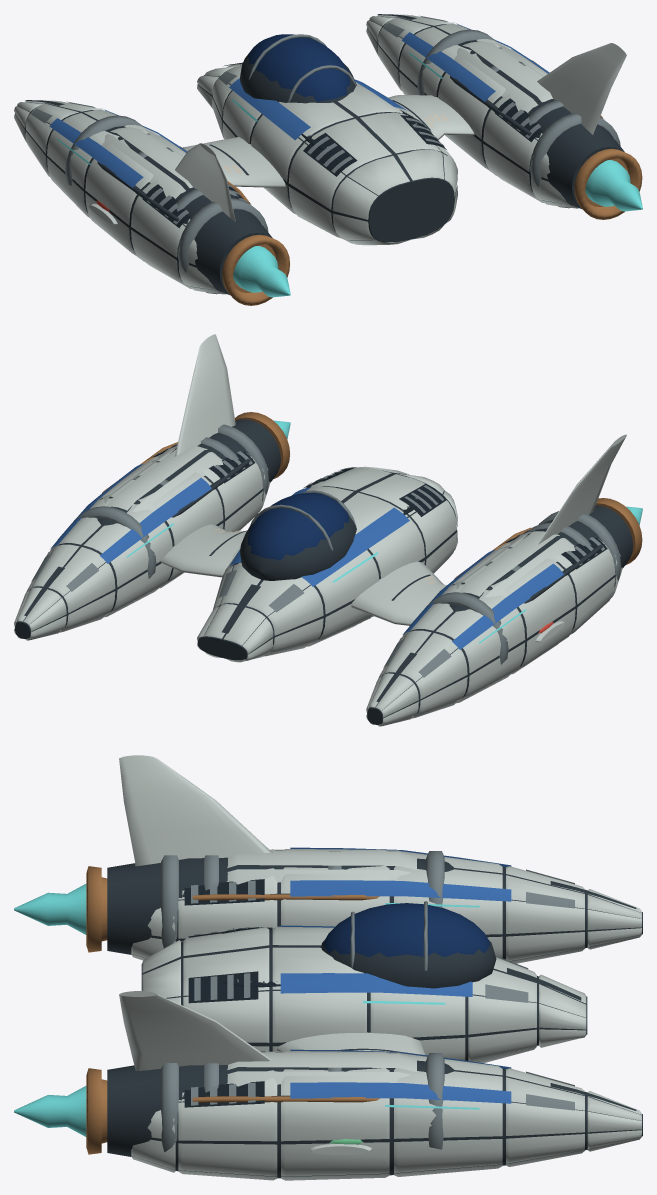
File: cryo.glb
The picture shows the model from 3 angles, top to bottom: view 1: azimuth 30°, elevation 25°; view 2: azimuth 150°, elevation 25°; view 3: azimuth 270°, elevation 25°; orthographic projection. The views are drawn at different scales.
Visible parts, largest first — view 1: cryo; view 2: cryo; view 3: cryo.
Boxes of the visible parts, x1,y1,x2,y2 form: cryo: [14, 14, 642, 305]; cryo: [14, 334, 642, 726]; cryo: [14, 755, 642, 1180].
Size of the model in its own units: 7.9 by 2.78 by 8.11.
